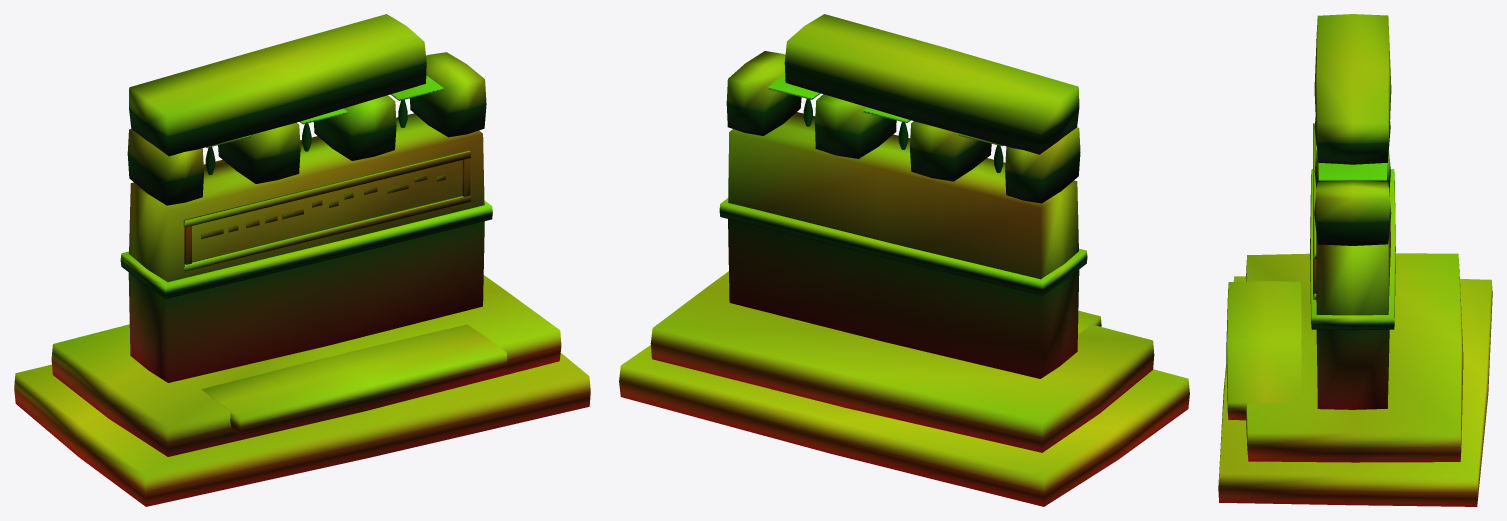
File: grave_stele_b.glb
3 renders of one model, left to right at view 1: azimuth 30°, elevation 25°; view 2: azimuth 150°, elevation 25°; view 3: azimuth 270°, elevation 25°, orthographic. The views are drawn at different scales.
Visible parts, largest first — view 1: grave_stele_b; view 2: grave_stele_b; view 3: grave_stele_b.
Boxes of the visible parts, bbox=[...] form: grave_stele_b: bbox=[14, 14, 590, 506]; grave_stele_b: bbox=[619, 14, 1189, 506]; grave_stele_b: bbox=[1218, 14, 1492, 506].
Size of what is drawn, in the model's own units: 1.25 by 0.9566 by 0.7157.
